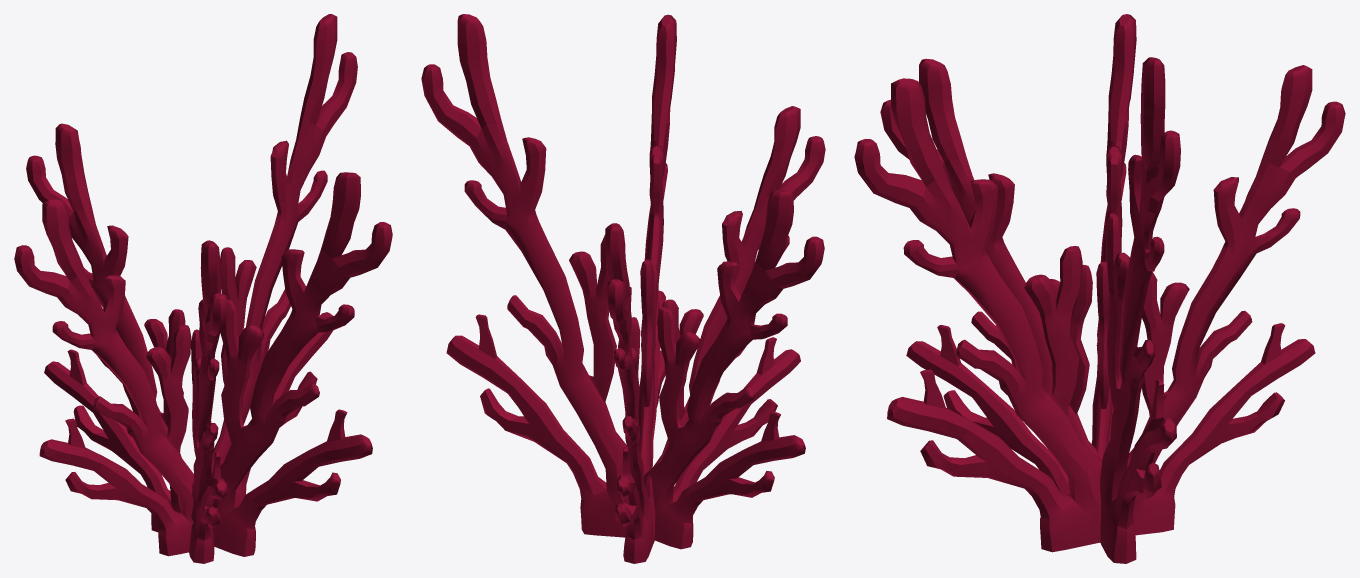
File: coral_10.obj
The picture shows the model from 3 angles, left to right: view 1: azimuth 30°, elevation 25°; view 2: azimuth 150°, elevation 25°; view 3: azimuth 270°, elevation 25°; orthographic projection. The views are drawn at different scales.
Visible parts, largest first — view 1: pCylinder23_Redd_0.001; view 2: pCylinder23_Redd_0.001; view 3: pCylinder23_Redd_0.001.
Boxes of the visible parts, x1,y1,x2,y2 form: pCylinder23_Redd_0.001: [14, 14, 392, 563]; pCylinder23_Redd_0.001: [421, 14, 825, 563]; pCylinder23_Redd_0.001: [854, 14, 1345, 563].
Bounding box in the file's own units: 1.14 × 1.43 × 1.13.
